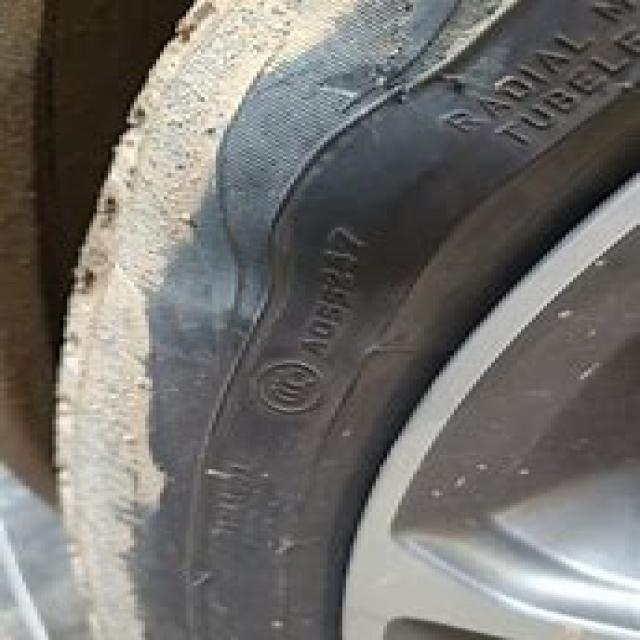Bulge: (194, 52, 555, 308)
